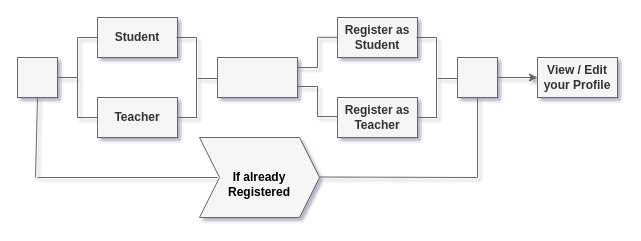
This 641x241 diagram has some shape labels left out. Each missing label, with the centre of its shape:
Login: pixel 477 77
Register: pixel 257 77
User: pixel 37 77
